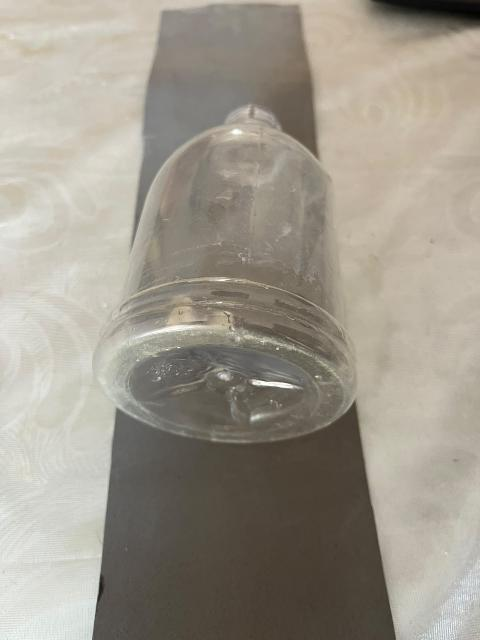PET: (100, 59, 412, 509)
